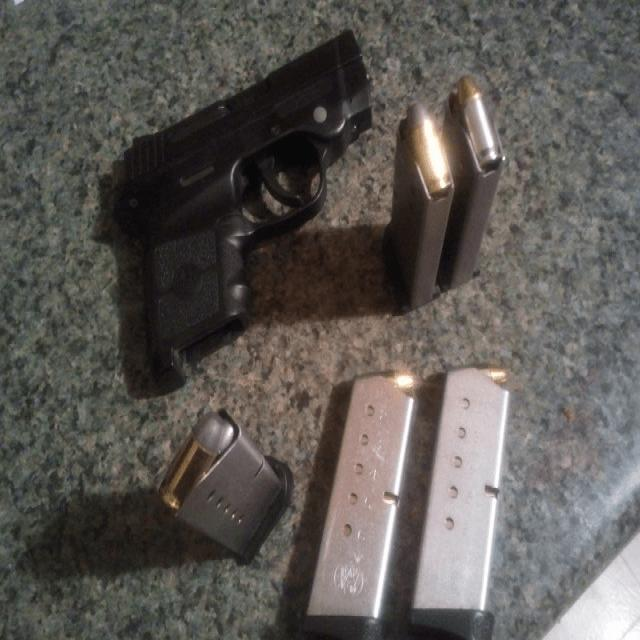HandGun: (113, 31, 373, 393)
